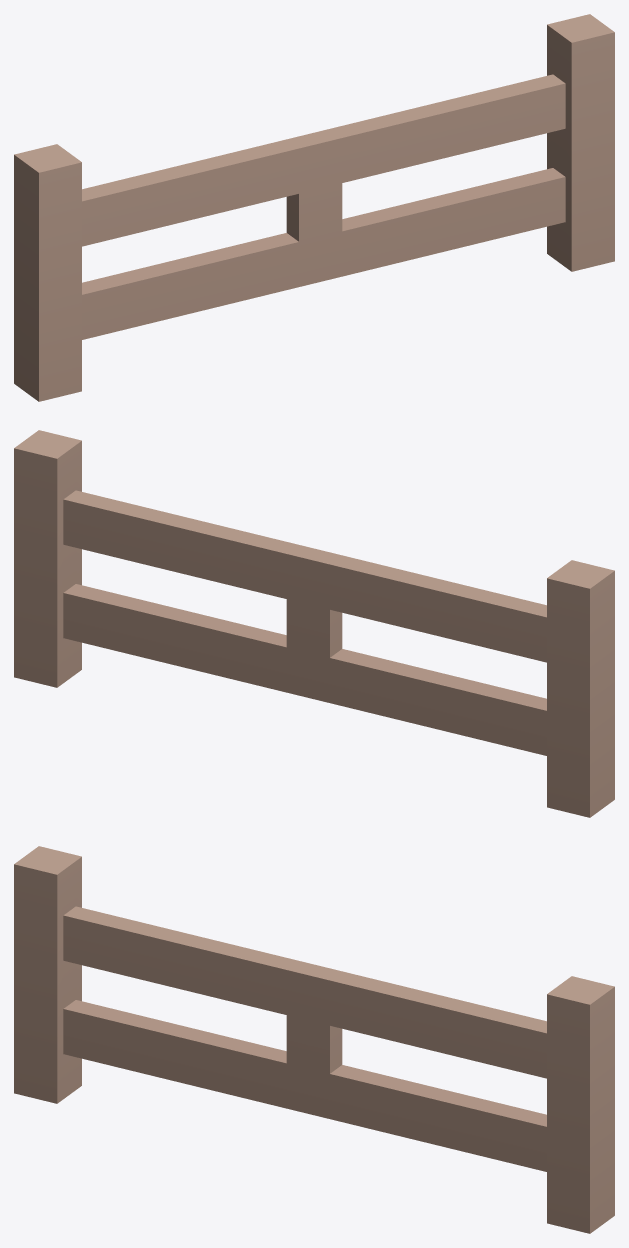
Rendered from fence.gltf.
The picture shows the model from 3 angles, top to bottom: view 1: azimuth 30°, elevation 25°; view 2: azimuth 150°, elevation 25°; view 3: azimuth 330°, elevation 25°; orthographic projection.
Visible parts, largest first — view 1: fence; view 2: fence; view 3: fence.
Boxes of the visible parts, left/top/right/bottom form: fence: left=14, top=14, right=614, bottom=401; fence: left=14, top=430, right=614, bottom=817; fence: left=14, top=846, right=614, bottom=1233.
Size of the model in its own units: 1 by 0.38 by 0.075.
